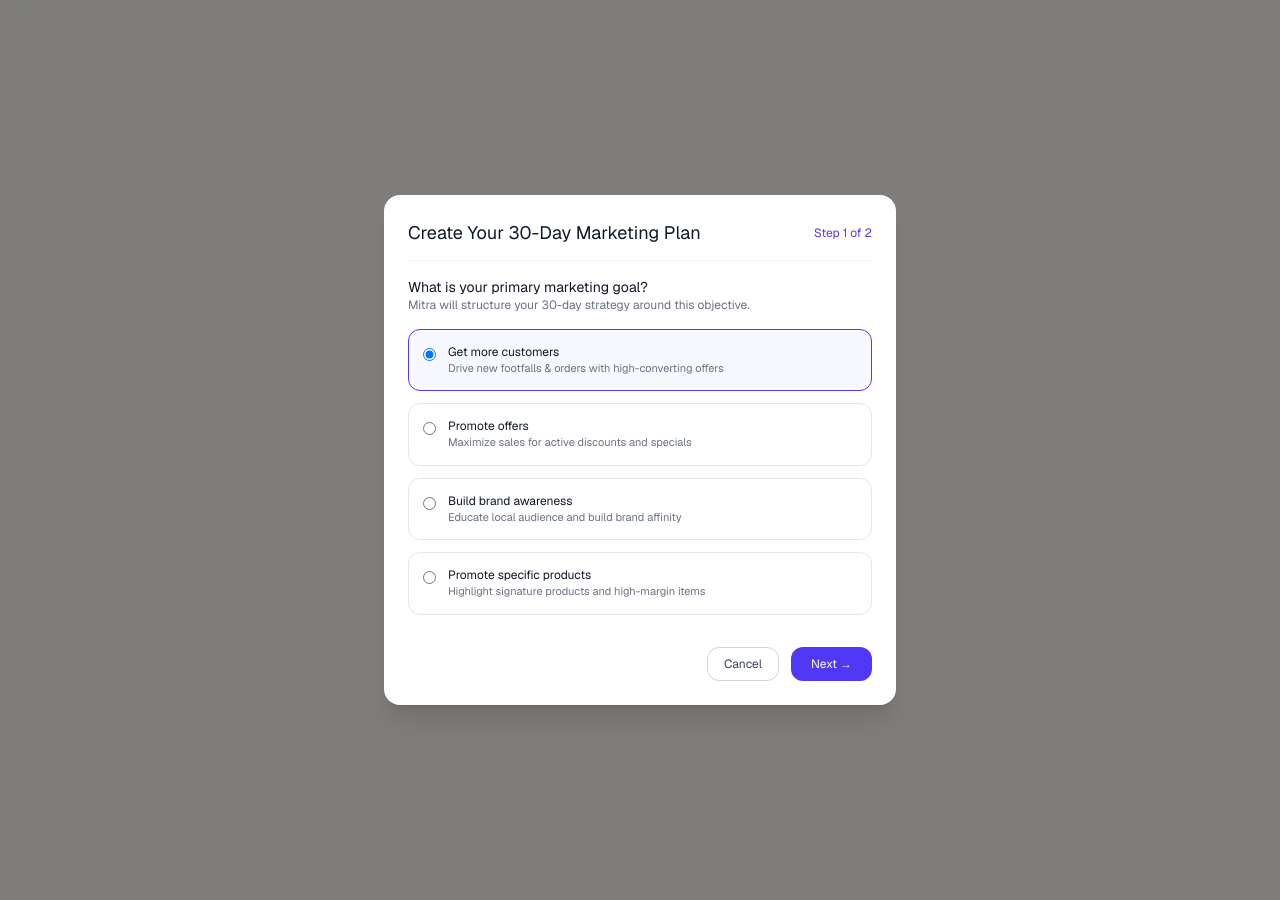
PlanWizardModal › displays an error message when generation fails
Click the button "Next →" at (832, 664), box [791,647,872,681]
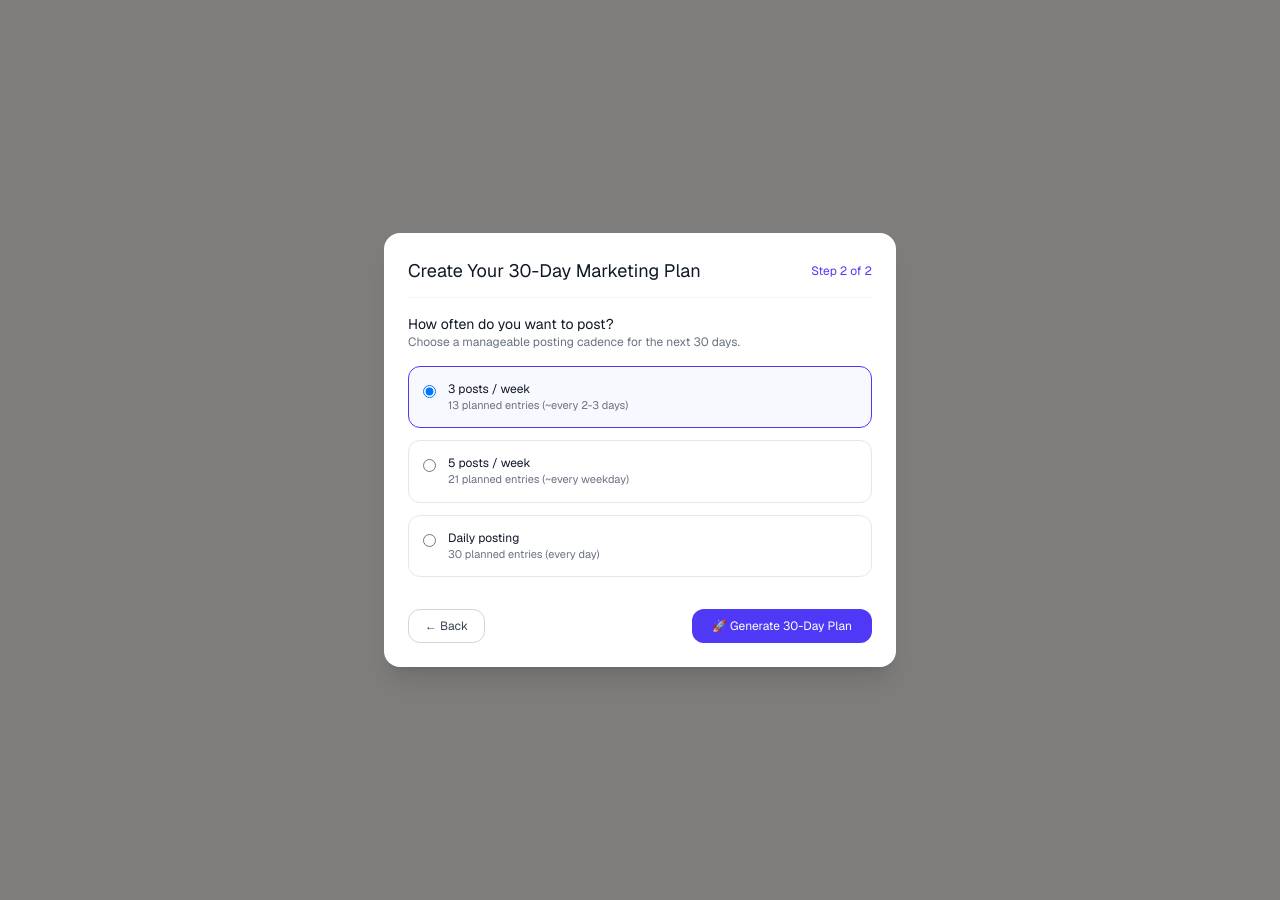
Click the button "🚀 Generate 30-Day Plan" at (782, 626), box [692,609,872,643]
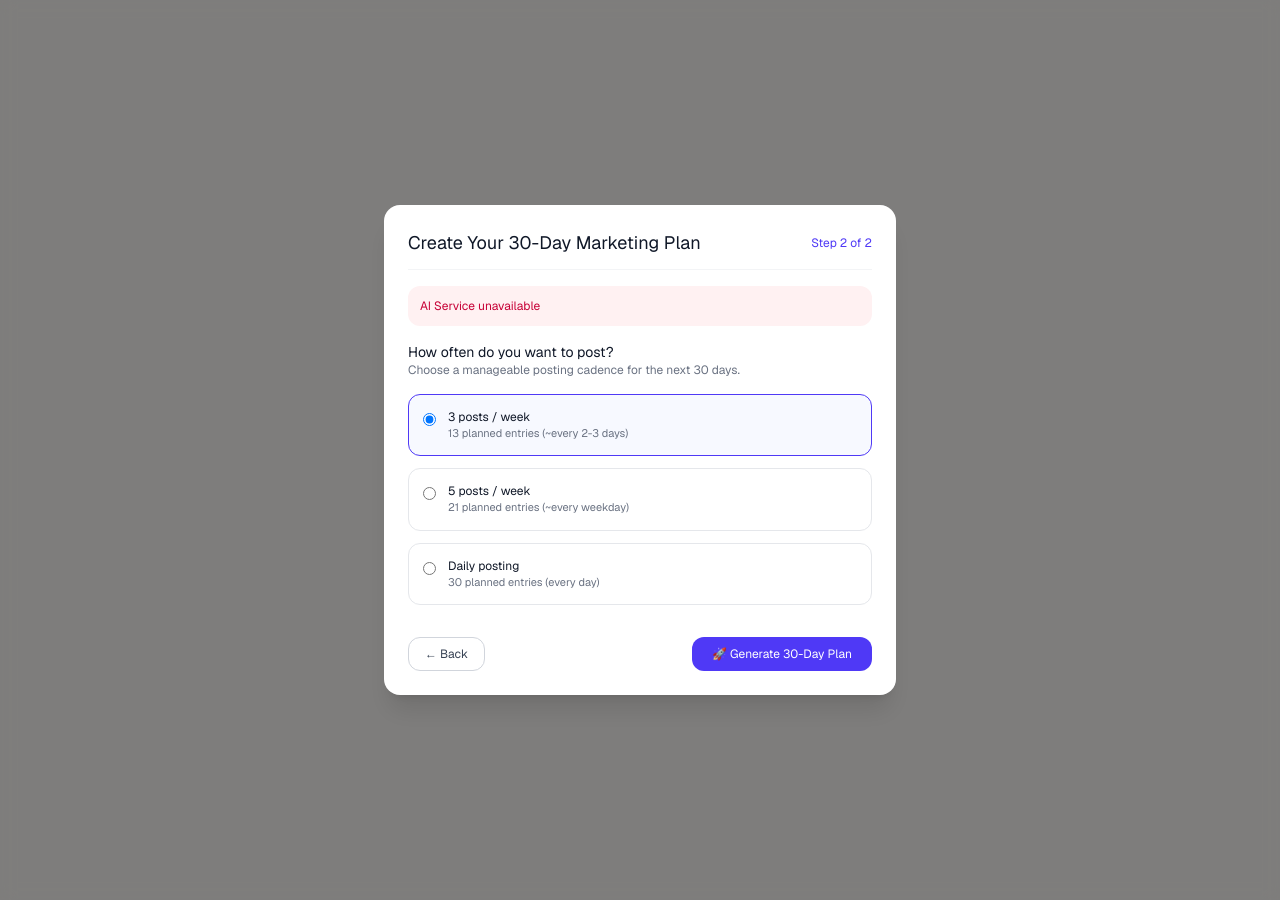
Check: the text "AI Service unavailable" is shown, box [408,286,872,326]
